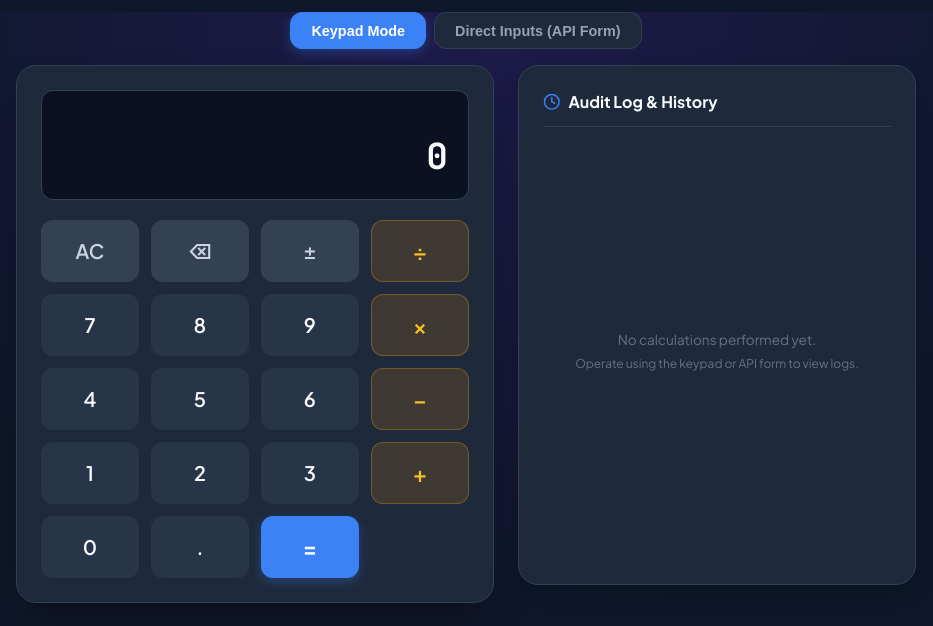
it: Calculator Component › clears state on AC button click
The image size is (933, 626).
#  Click 9
Click the button with test id "btn-digit-9" at (310, 325), box x1=261 y1=294 x2=359 y2=356
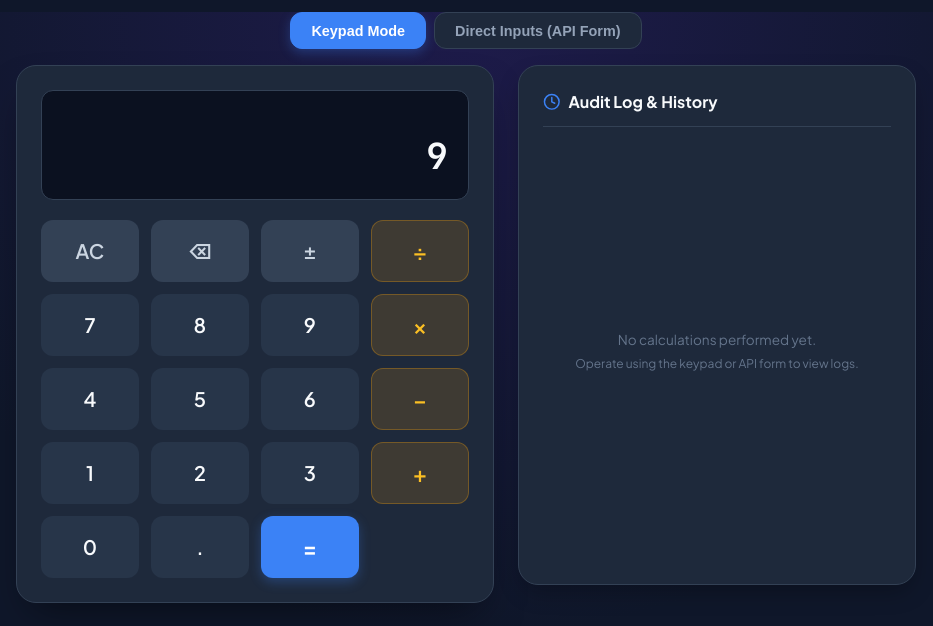
Expected: the text with test id "display-value" reads "9", x1=426 y1=132 x2=448 y2=180
# Click AC
Click the button with test id "btn-clear" at (90, 251), box x1=41 y1=220 x2=139 y2=282
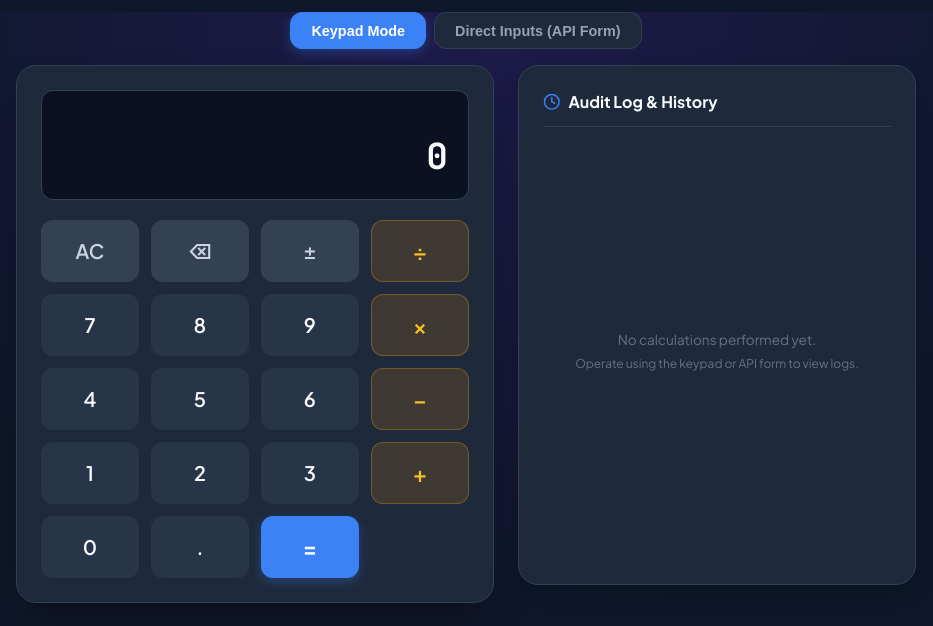
Expected: the text with test id "display-value" reads "0", x1=426 y1=132 x2=448 y2=180
